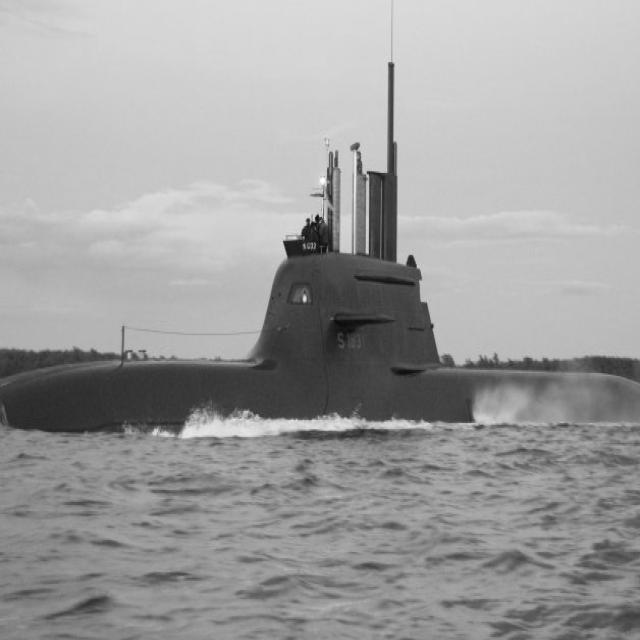submarine: (1, 62, 640, 433)
